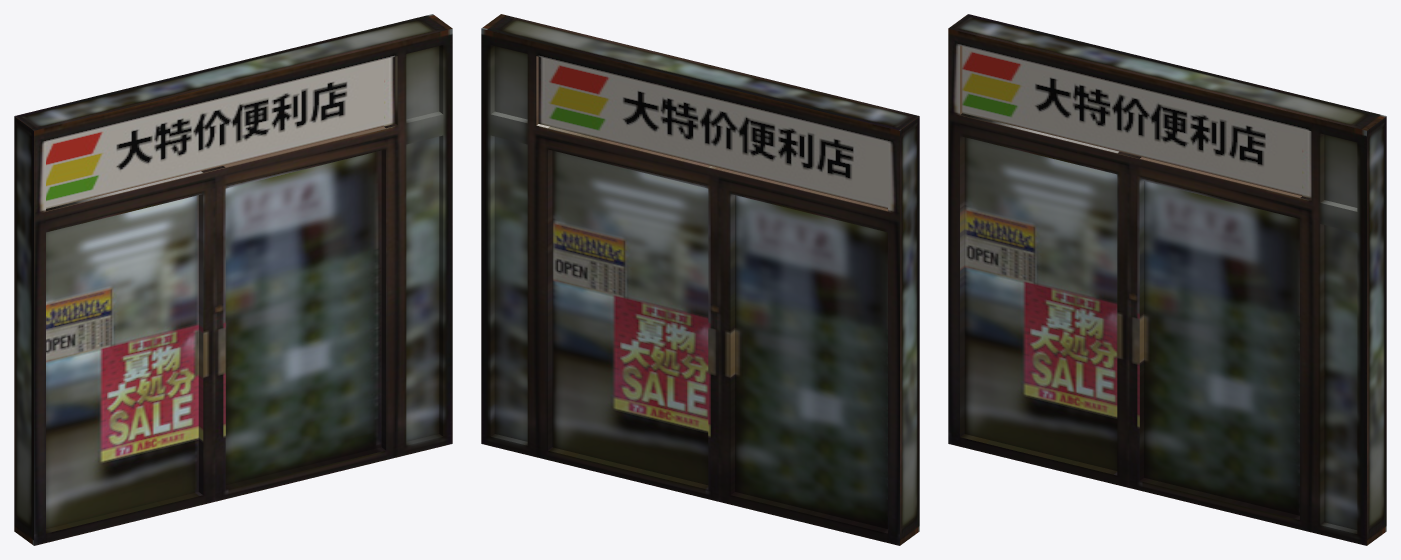
Rendered from obj_door_cstore.fbx.
The picture shows the model from 3 angles, left to right: view 1: azimuth 30°, elevation 25°; view 2: azimuth 150°, elevation 25°; view 3: azimuth 330°, elevation 25°; orthographic projection.
Parts seen in each view (by area): view 1: pCube3; view 2: pCube3; view 3: pCube3.
Part boxes in pixels (x1,y1,x2,y2): pCube3: (14, 14, 452, 545); pCube3: (481, 14, 919, 545); pCube3: (948, 14, 1386, 545).
Bounding box in the file's own units: 10.03 × 9.5 × 0.8286.
